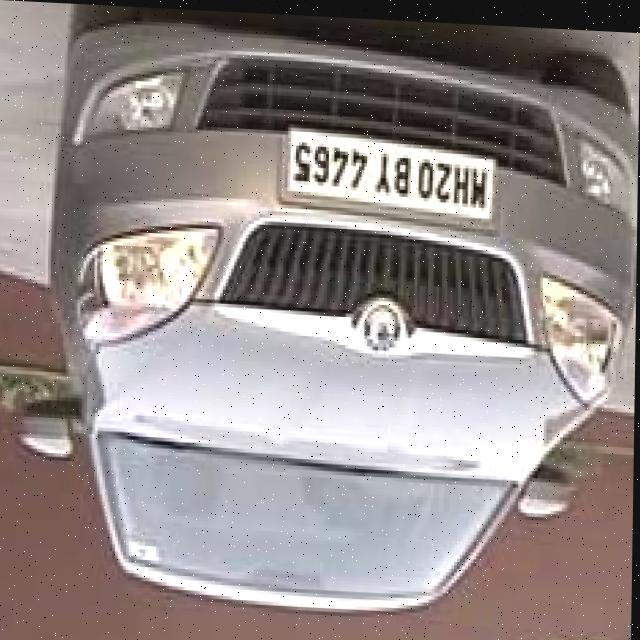plate: (286, 126, 495, 216)
